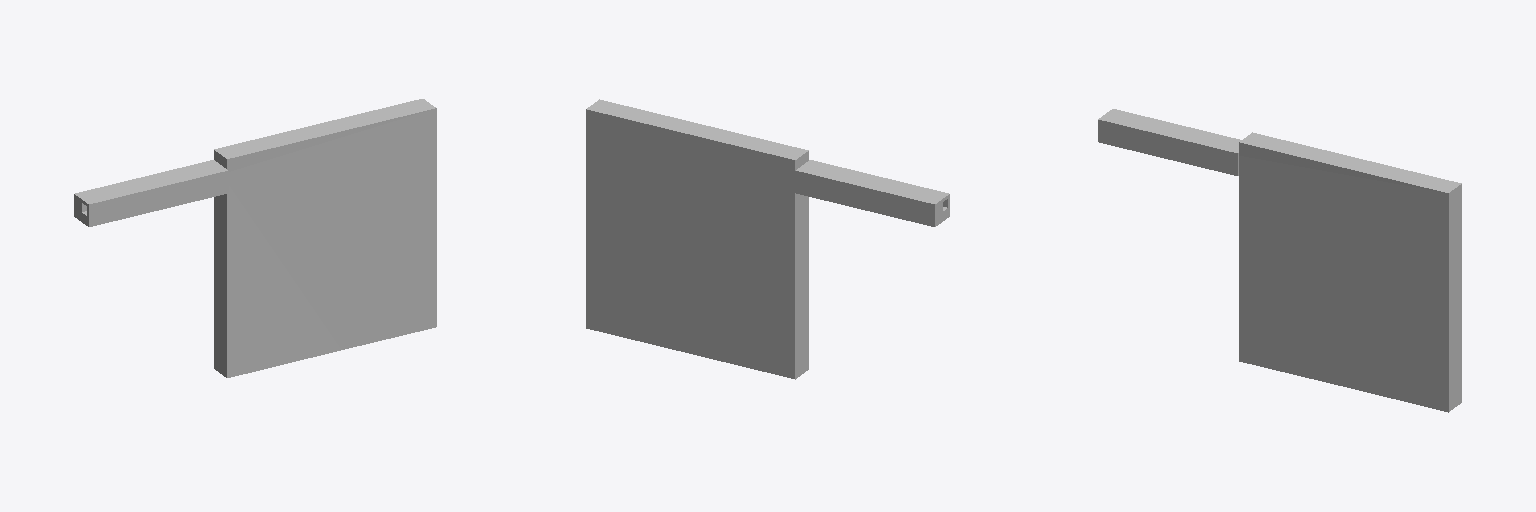
The model's file is Spiral Control Chamber.obj.
The picture shows the model from 3 angles: view 1: azimuth 30°, elevation 25°; view 2: azimuth 150°, elevation 25°; view 3: azimuth 330°, elevation 25°; orthographic projection.
Parts seen in each view (by area): view 1: mesh46, mesh0, mesh48, mesh45, mesh1; view 2: mesh49, mesh2, mesh48, mesh45, mesh1; view 3: mesh46, mesh0, mesh47, mesh48, mesh1.
Boxes of the visible parts, <box> form: mesh46: <box>227,108,436,377</box>; mesh0: <box>89,171,228,226</box>; mesh48: <box>214,99,435,158</box>; mesh45: <box>214,150,226,377</box>; mesh1: <box>75,160,227,203</box>; mesh49: <box>586,109,794,378</box>; mesh2: <box>795,171,934,226</box>; mesh48: <box>587,99,808,159</box>; mesh45: <box>795,151,808,379</box>; mesh1: <box>796,160,948,203</box>; mesh46: <box>1239,142,1448,412</box>; mesh0: <box>1098,120,1237,175</box>; mesh47: <box>1449,184,1461,411</box>; mesh48: <box>1240,132,1461,192</box>; mesh1: <box>1098,109,1241,152</box>.
Size of the model in its own units: 0.0075 by 0.0045 by 0.0006.